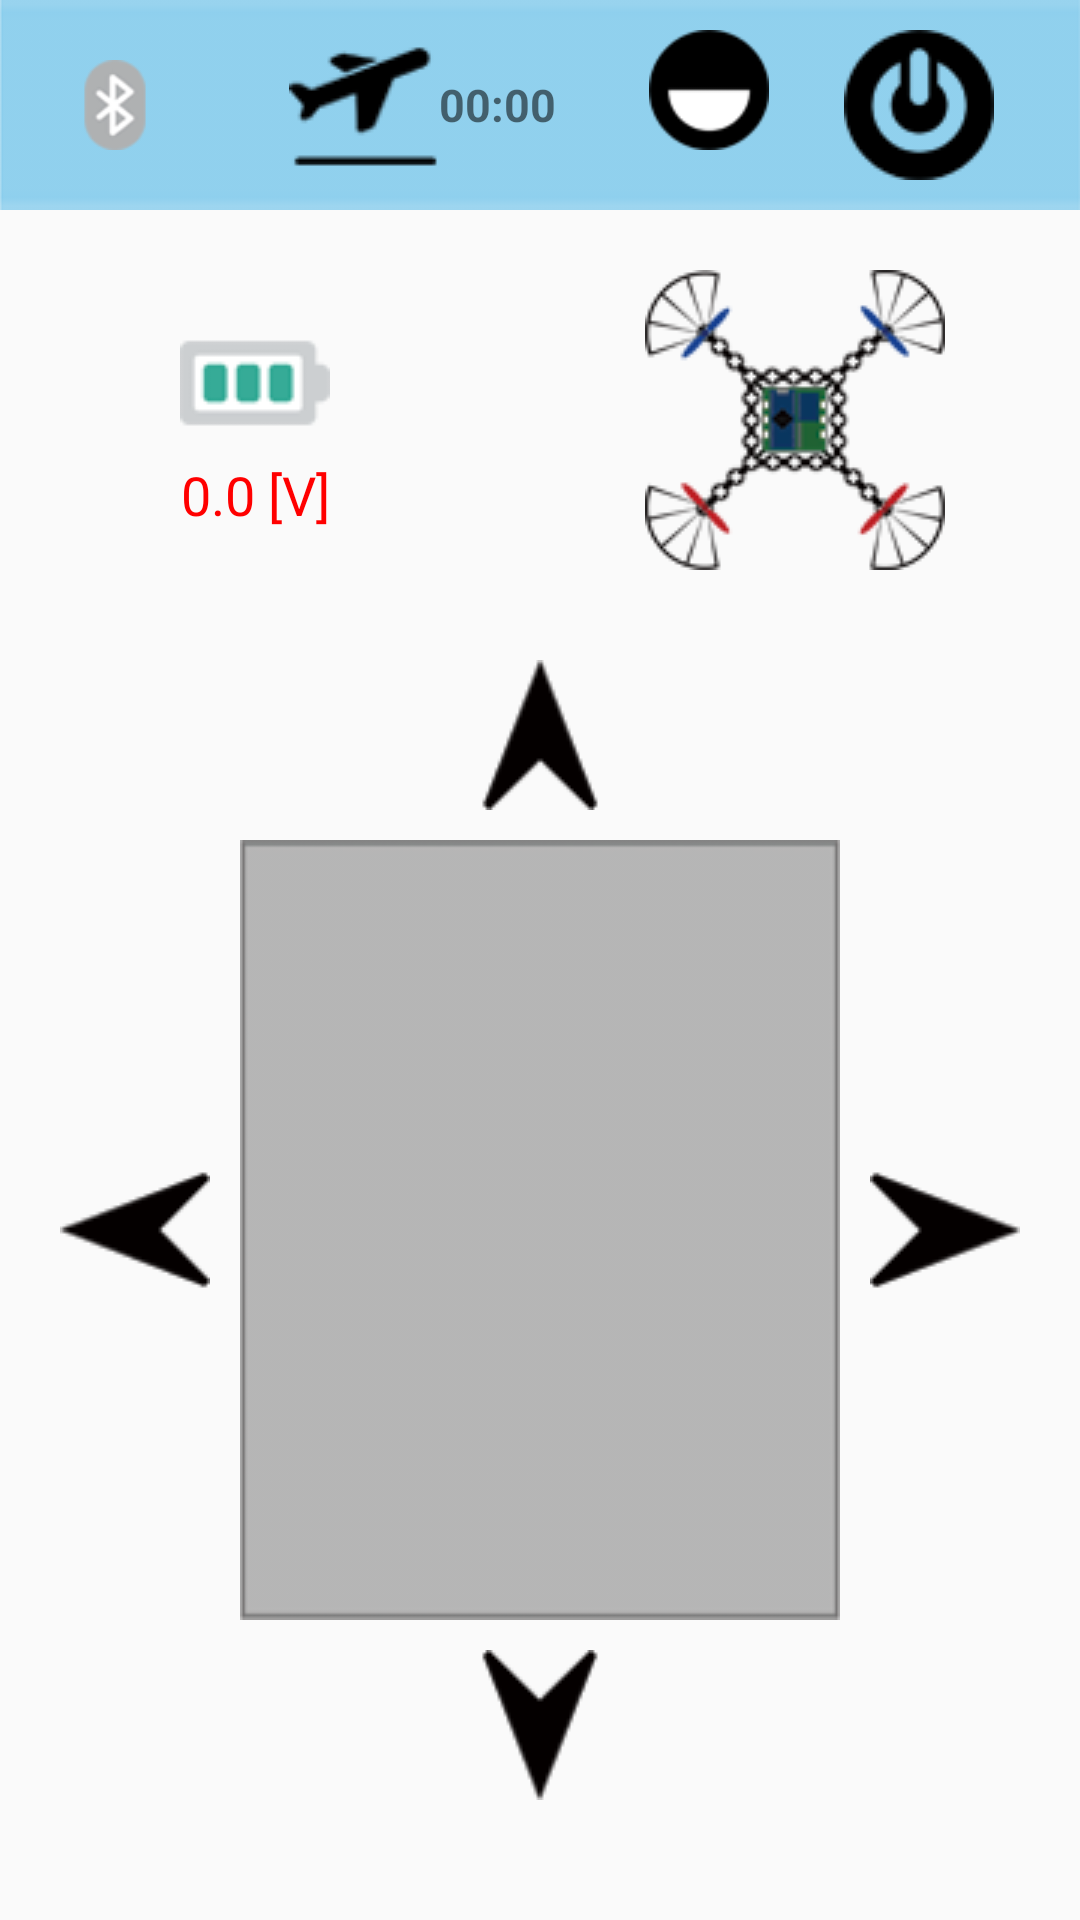

Named icons in this screenshot (1080x1920) and their centers, [x,y]:
arrowbottom: [540,1725]
arrowleft: [135,1230]
arrowright: [945,1230]
arrowup: [540,735]
plane: [363,106]
power off: [919,105]
quad drone: [795,420]
vbat: [255,383]
